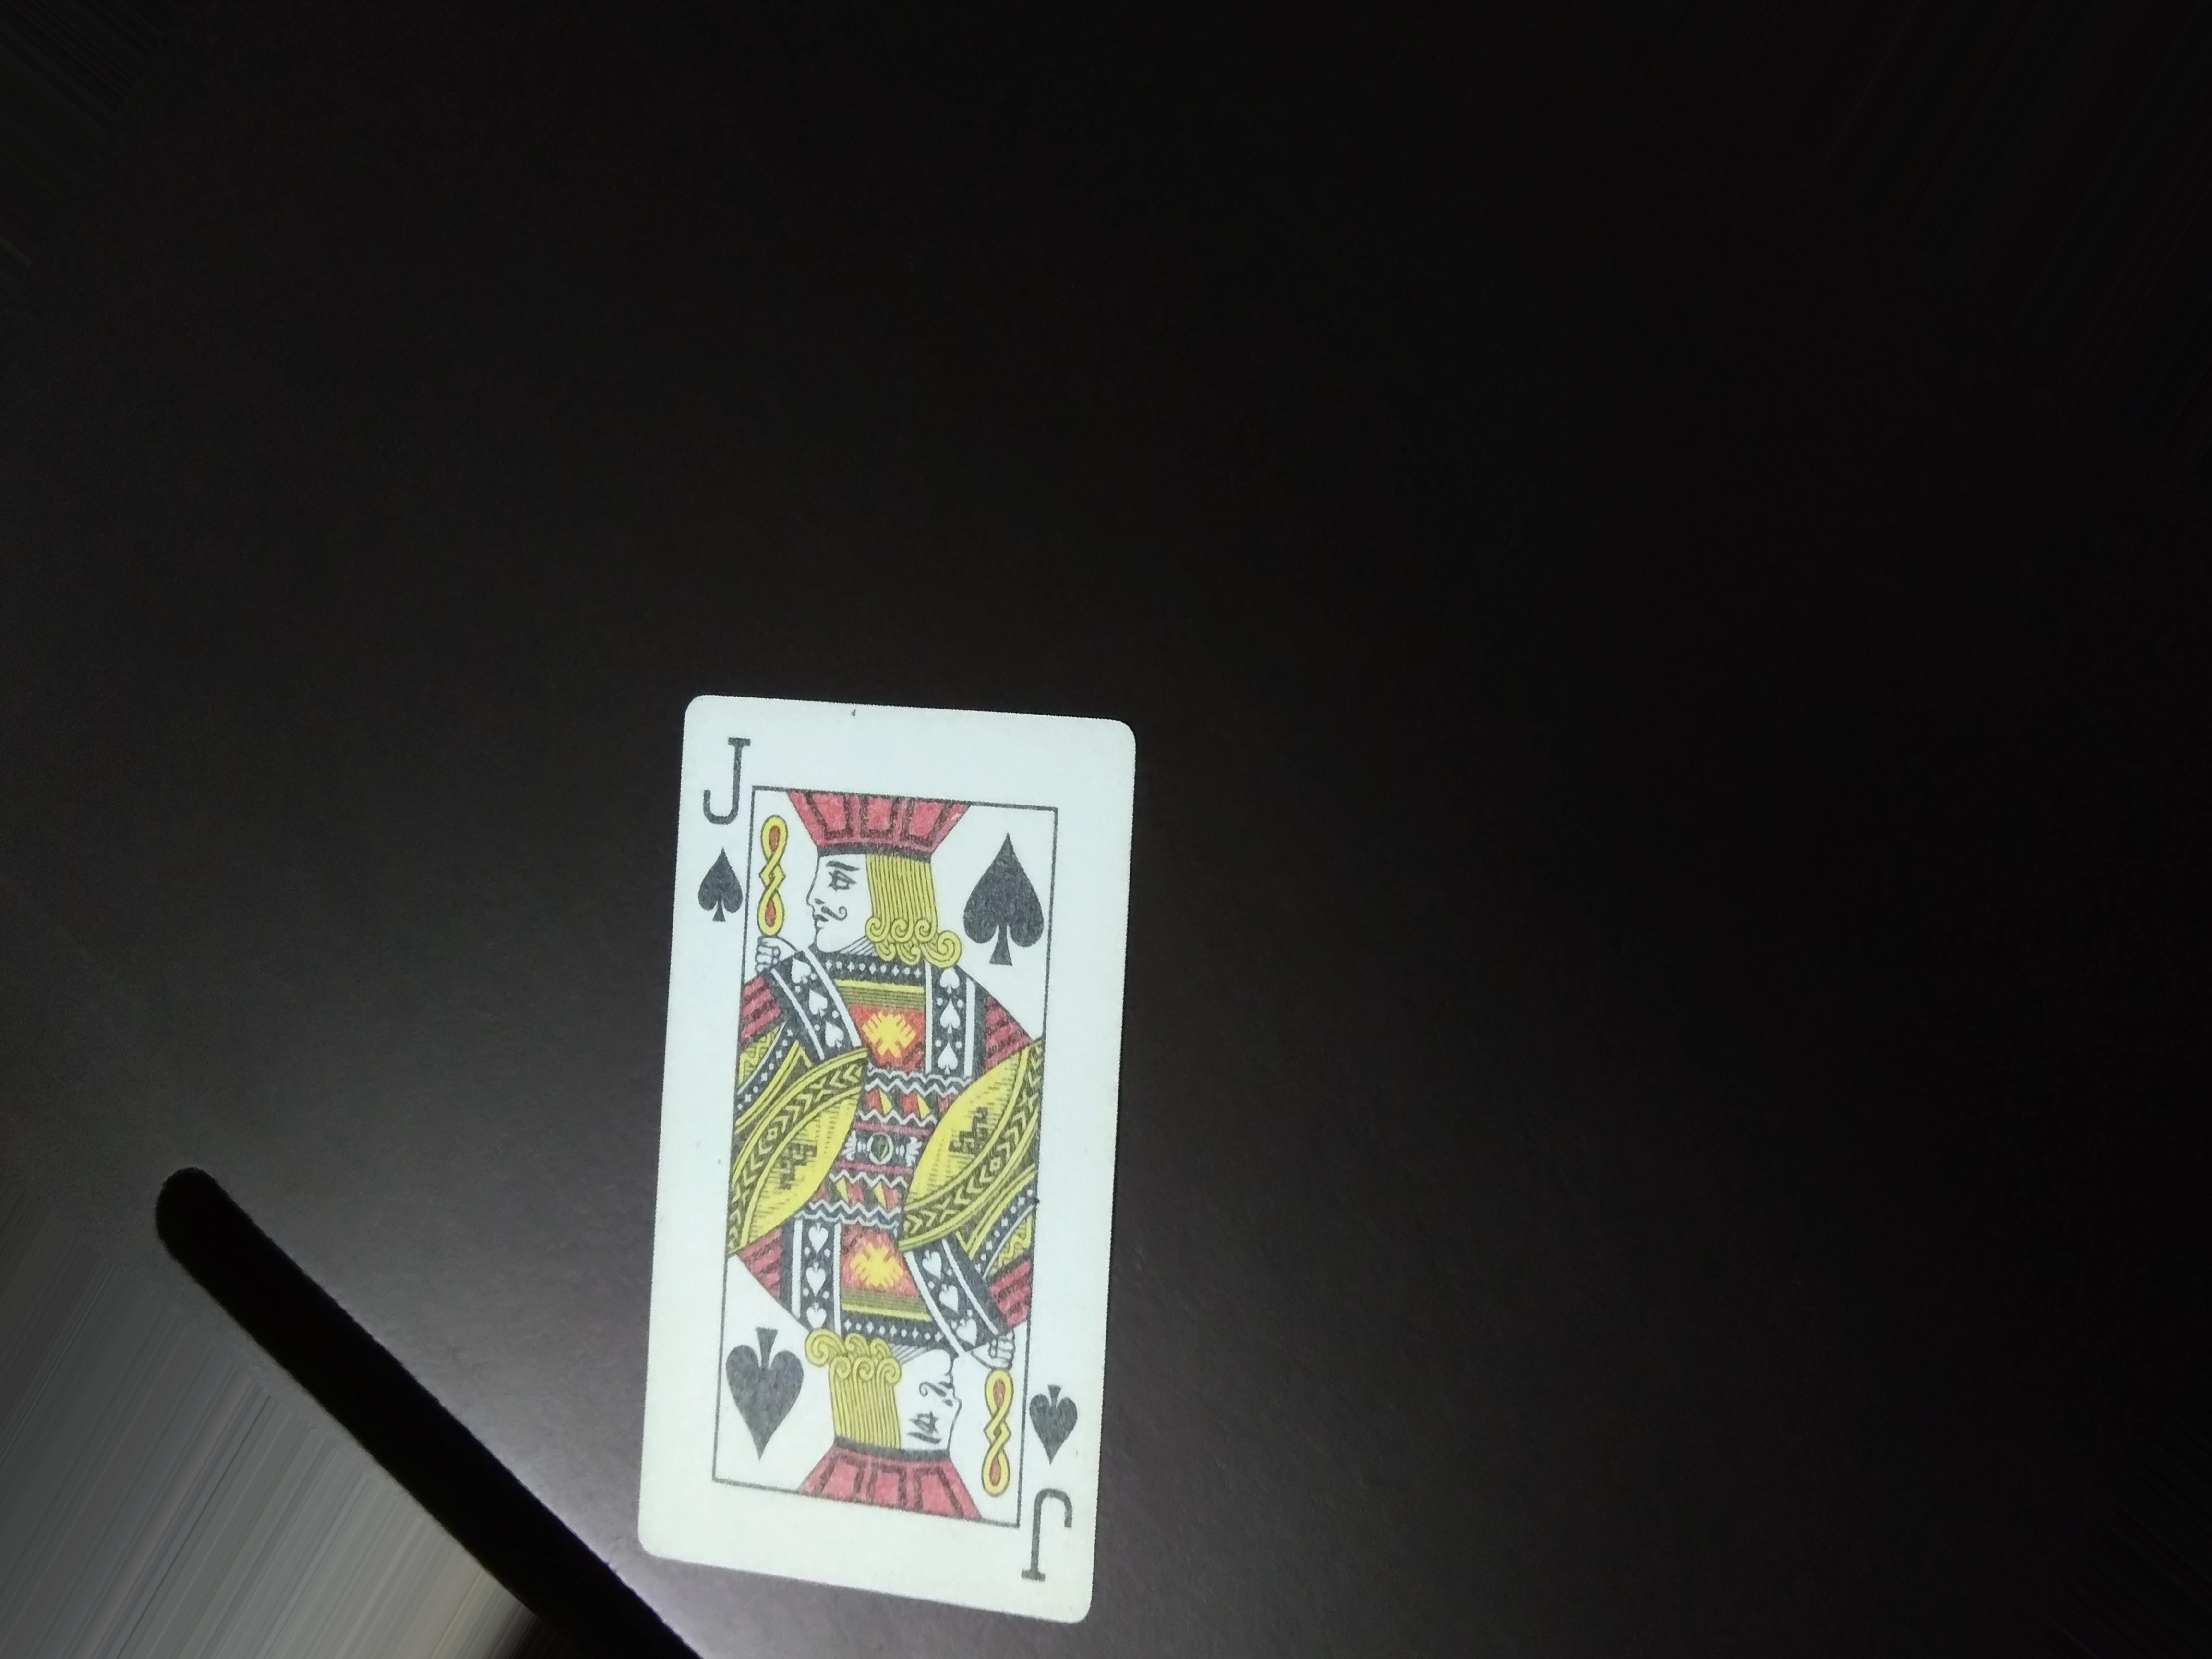JS: (693, 723, 770, 931)
